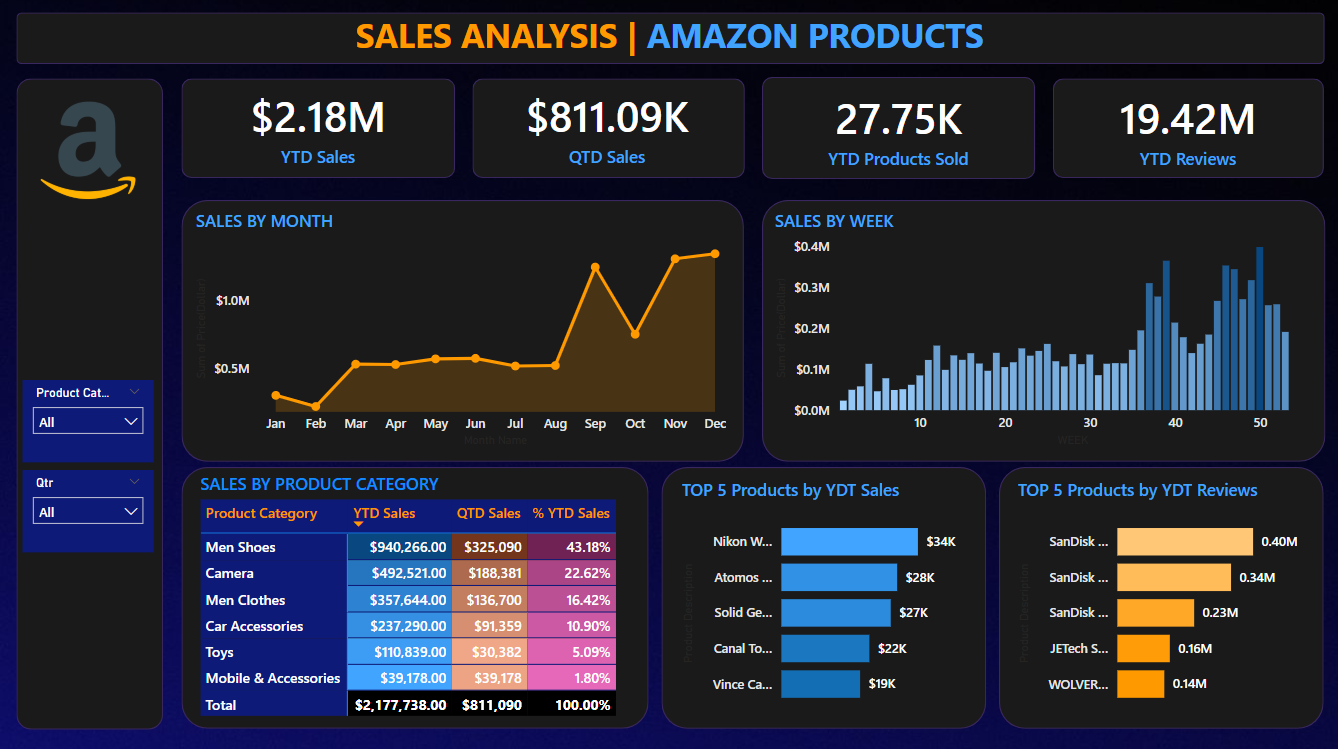

Layout of this report page (visuals, bound fields, positions):
{"tool":"powerbi","page":{"name":"Page 1","canvas":[1280,720],"ordinal":0},"visuals":[{"type":"shape","box":[15.1,75.6,139.8,621.7],"z":0},{"type":"shape","box":[173.8,446.2,446.2,250],"z":1000},{"type":"shape","box":[15.1,13.2,1249.1,49.1],"z":2000},{"type":"textbox","box":[326.9,7.6,625.5,58.6],"z":3000},{"type":"shape","box":[173.8,75.6,261.2,95],"z":4000},{"type":"shape","box":[451.2,75.6,260,95],"z":5000},{"type":"shape","box":[727.5,74.4,261.2,97.5],"z":6000},{"type":"shape","box":[1005,75.6,258.8,95],"z":7000},{"type":"card","fields":{"Values":["Amazon_Data.YTD Reviews"]},"box":[1004,76,260,95],"z":8000},{"type":"card","fields":{"Values":["Amazon_Data.YTD Products Sold"]},"box":[728,76,261,95],"z":9000},{"type":"card","fields":{"Values":["Amazon_Data.QTD Sales"]},"box":[449,75,262,95],"z":10000},{"type":"card","fields":{"Values":["Amazon_Data.YTD Sales"]},"box":[174,75,261,95],"z":11000},{"type":"shape","box":[174,192,537,250],"z":12000},{"type":"areaChart","title":"SALES BY MONTH","fields":{"Y":["Sum(Amazon_Data.Price(Dollar))"],"Category":["Date Table.Month Name"]},"box":[181.7,200,521.7,231.7],"z":13000},{"type":"shape","box":[727.3,191.8,538.2,250],"z":14000},{"type":"columnChart","title":"SALES BY WEEK","fields":{"Y":["Sum(Amazon_Data.Price(Dollar))"],"Category":["Date Table.WEEK"]},"box":[735,201.2,521.2,231.2],"z":15000},{"type":"pivotTable","title":"SALES BY PRODUCT  CATEGORY","fields":{"Rows":["Amazon_Data.Product Category"],"Values":["Amazon_Data.YTD Sales1","Amazon_Data.QTD Sales","Amazon_Data.YTD Sales"]},"box":[186.7,451.7,433.3,241.7],"z":16000},{"type":"shape","box":[631.9,447.5,310,250],"z":17000},{"type":"shape","box":[953.8,447.5,310,250],"z":18000},{"type":"clusteredBarChart","title":"TOP 5 Products  by YDT Sales","fields":{"Category":["Amazon_Data.Product Description"],"Y":["Amazon_Data.YTD Sales"]},"box":[646.2,456.2,281.2,230],"z":19000},{"type":"clusteredBarChart","title":"TOP 5 Products  by YDT Reviews","fields":{"Category":["Amazon_Data.Product Description"],"Y":["Amazon_Data.YTD Reviews"]},"box":[967.5,457.5,281.2,230],"z":20000},{"type":"slicer","fields":{"Values":["Amazon_Data.Product Category"]},"box":[21.7,363.3,125,78.3],"z":24500},{"type":"slicer","fields":{"Values":["Date Table.Qtr"]},"box":[21.7,450,125,78.3],"z":27500},{"type":"image","box":[21.7,76.7,125,131.7],"z":32500}]}

Visuals, with their boxes in screenshot pixels (x1, y1, x2, y2), scaled from the page's 1280x720 canvas onto the 1338x749 screenshot:
shape: crop(16, 79, 162, 725)
shape: crop(182, 464, 648, 724)
shape: crop(16, 14, 1321, 65)
textbox: crop(342, 8, 996, 69)
shape: crop(182, 79, 455, 177)
shape: crop(472, 79, 743, 177)
shape: crop(760, 77, 1034, 179)
shape: crop(1051, 79, 1321, 177)
card - Amazon_Data.YTD Reviews: crop(1049, 79, 1321, 178)
card - Amazon_Data.YTD Products Sold: crop(761, 79, 1034, 178)
card - Amazon_Data.QTD Sales: crop(469, 78, 743, 177)
card - Amazon_Data.YTD Sales: crop(182, 78, 455, 177)
shape: crop(182, 200, 743, 460)
"SALES BY MONTH" areaChart: crop(190, 208, 735, 449)
shape: crop(760, 200, 1323, 460)
"SALES BY WEEK" columnChart: crop(768, 209, 1313, 450)
"SALES BY PRODUCT  CATEGORY" pivotTable: crop(195, 470, 648, 721)
shape: crop(661, 466, 985, 726)
shape: crop(997, 466, 1321, 726)
"TOP 5 Products  by YDT Sales" clusteredBarChart: crop(675, 475, 969, 714)
"TOP 5 Products  by YDT Reviews" clusteredBarChart: crop(1011, 476, 1305, 715)
slicer - Amazon_Data.Product Category: crop(23, 378, 153, 459)
slicer - Date Table.Qtr: crop(23, 468, 153, 550)
image: crop(23, 80, 153, 217)
